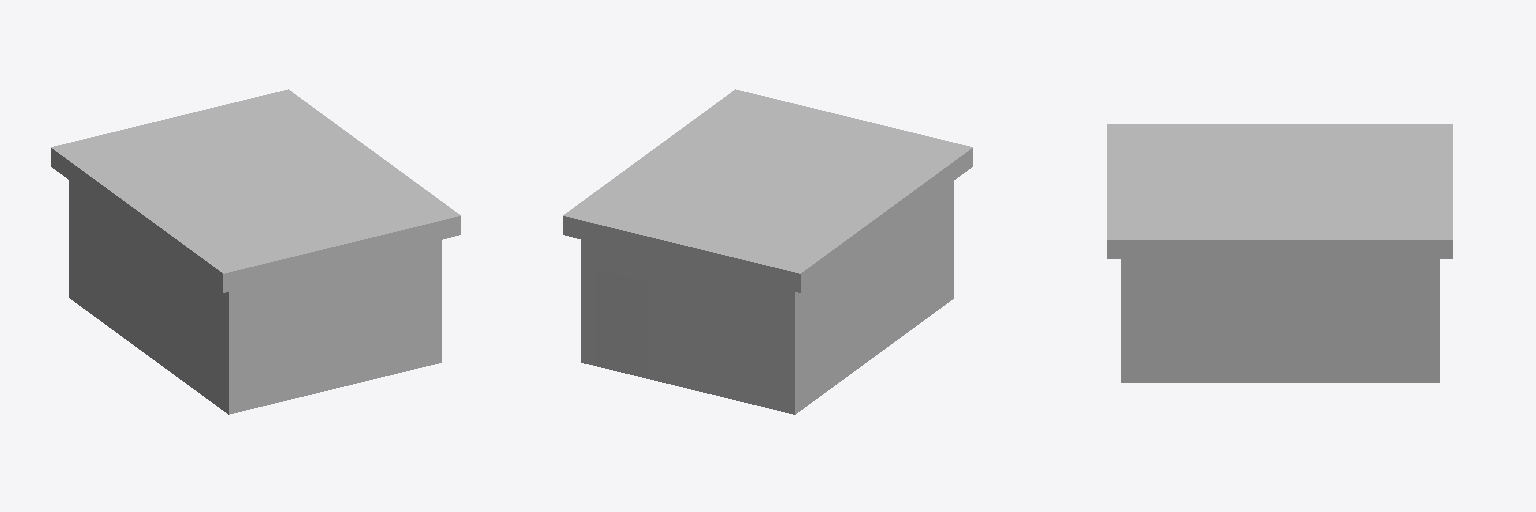
The model's file is 1floorbusiness.obj.
3 views of the same model, side by side, from view 1: azimuth 30°, elevation 25°; view 2: azimuth 150°, elevation 25°; view 3: azimuth 270°, elevation 25° (orthographic).
Parts seen in each view (by area): view 1: SP_TD_House; view 2: SP_TD_House; view 3: SP_TD_House.
Part boxes in pixels (x1,y1,x2,y2): SP_TD_House: (51,89,460,414); SP_TD_House: (563,89,972,414); SP_TD_House: (1107,124,1452,382).
Bounding box in the file's own units: 8.38 × 5.01 × 10.54.